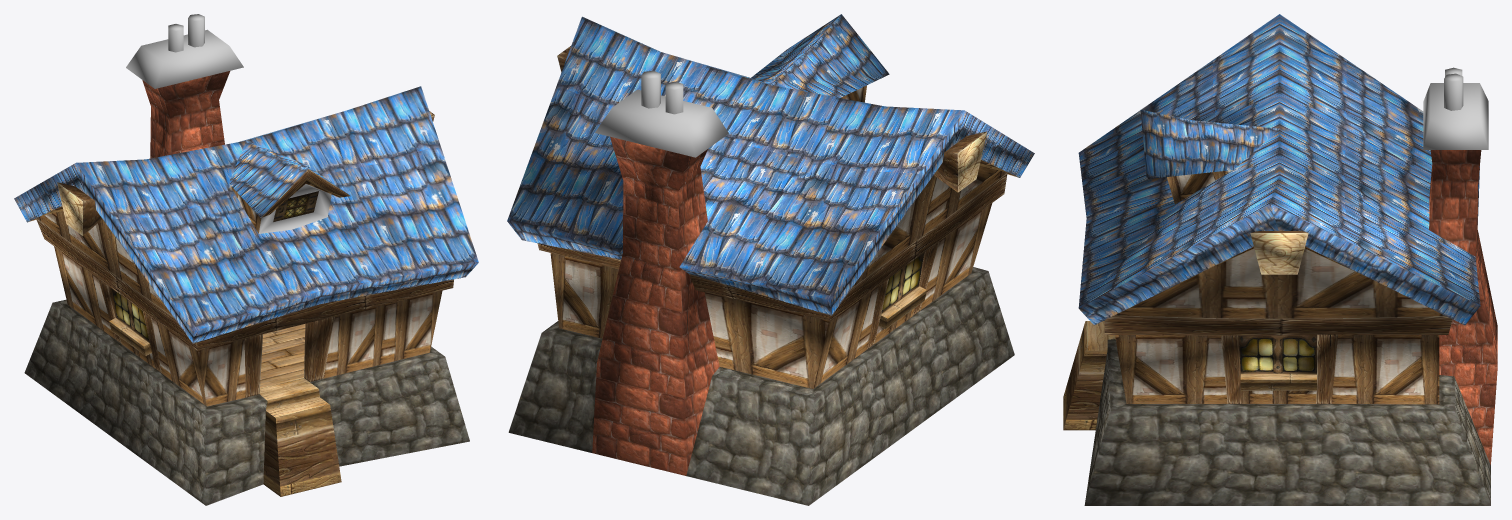
The model's file is farm_set2.obj.
3 renders of one model, left to right at view 1: azimuth 30°, elevation 25°; view 2: azimuth 150°, elevation 25°; view 3: azimuth 270°, elevation 25°, orthographic. The views are drawn at different scales.
Visible parts, largest first — view 1: exterior3, exterior1, exterior5, exterior7, exterior0, exterior2, interior0, exterior8, exterior6, exterior4; view 2: exterior3, exterior1, exterior0, exterior7, exterior5, exterior2, exterior8, exterior4; view 3: exterior3, exterior1, exterior7, exterior5, exterior0, exterior2, exterior8, exterior4.
Boxes of the visible parts, x1,y1,x2,y2 form: exterior3: (14, 86, 478, 343); exterior1: (24, 299, 469, 505); exterior5: (29, 111, 453, 496); exterior7: (37, 184, 442, 406); exterior0: (142, 71, 230, 158); exterior2: (126, 14, 243, 88); interior0: (260, 324, 305, 388); exterior8: (111, 191, 318, 341); exterior6: (259, 184, 331, 233); exterior4: (57, 182, 82, 235); exterior3: (507, 14, 1034, 315); exterior1: (508, 267, 1014, 505); exterior0: (592, 136, 719, 475); exterior7: (550, 85, 1007, 388); exterior5: (537, 46, 1018, 348); exterior2: (595, 70, 728, 157); exterior8: (881, 253, 924, 313); exterior4: (957, 132, 986, 192); exterior3: (1078, 14, 1480, 325); exterior1: (1084, 320, 1490, 505); exterior7: (1115, 170, 1445, 404); exterior5: (1063, 231, 1452, 430); exterior0: (1429, 150, 1497, 465); exterior2: (1423, 67, 1488, 149); exterior8: (1238, 334, 1316, 373); exterior4: (1250, 233, 1308, 274).
Size of the model in its own units: 18.87 by 16.88 by 18.02.
